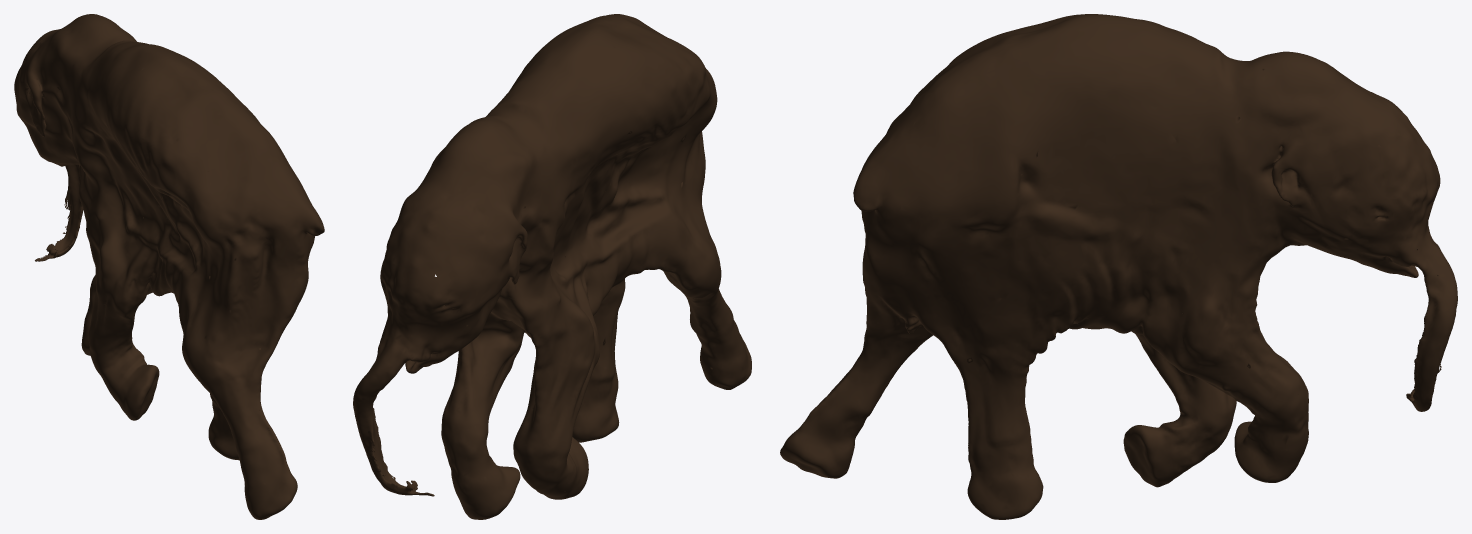
The model's file is woolly-mammoth.glb.
The picture shows the model from 3 angles, left to right: view 1: azimuth 30°, elevation 25°; view 2: azimuth 150°, elevation 25°; view 3: azimuth 270°, elevation 25°; orthographic projection. The views are drawn at different scales.
Parts seen in each view (by area): view 1: Lyuba_gr_0; view 2: Lyuba_gr_0; view 3: Lyuba_gr_0.
Part boxes in pixels (x1,y1,x2,y2): Lyuba_gr_0: [14, 14, 324, 519]; Lyuba_gr_0: [353, 14, 751, 519]; Lyuba_gr_0: [780, 14, 1457, 519].
Size of the model in its own units: 3.16 by 8.74 by 11.29.
